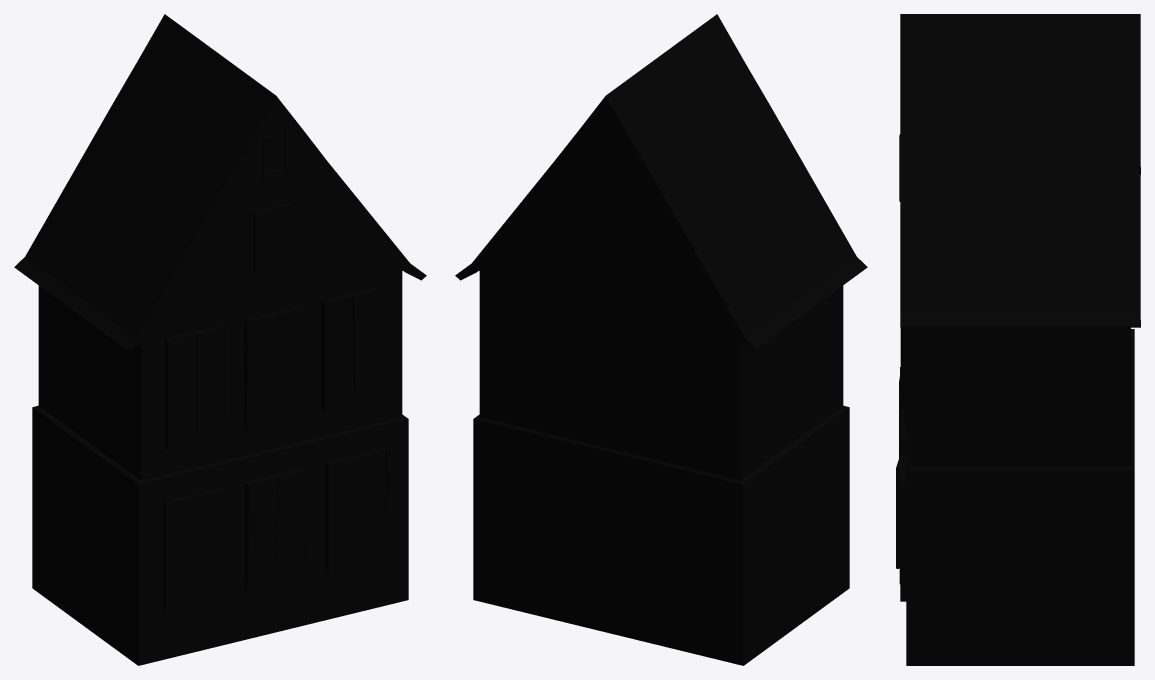
Rendered from domek01.fbx.
3 views of the same model, side by side, from view 1: azimuth 30°, elevation 25°; view 2: azimuth 150°, elevation 25°; view 3: azimuth 270°, elevation 25° (orthographic). The views are drawn at different scales.
Visible parts, largest first — view 1: Prism001; view 2: Prism001; view 3: Prism001.
Boxes of the visible parts, x1,y1,x2,y2 form: Prism001: (14,14,426,665); Prism001: (455,14,867,665); Prism001: (896,14,1140,665).
Bounding box in the file's own units: 323 × 552 × 211.
